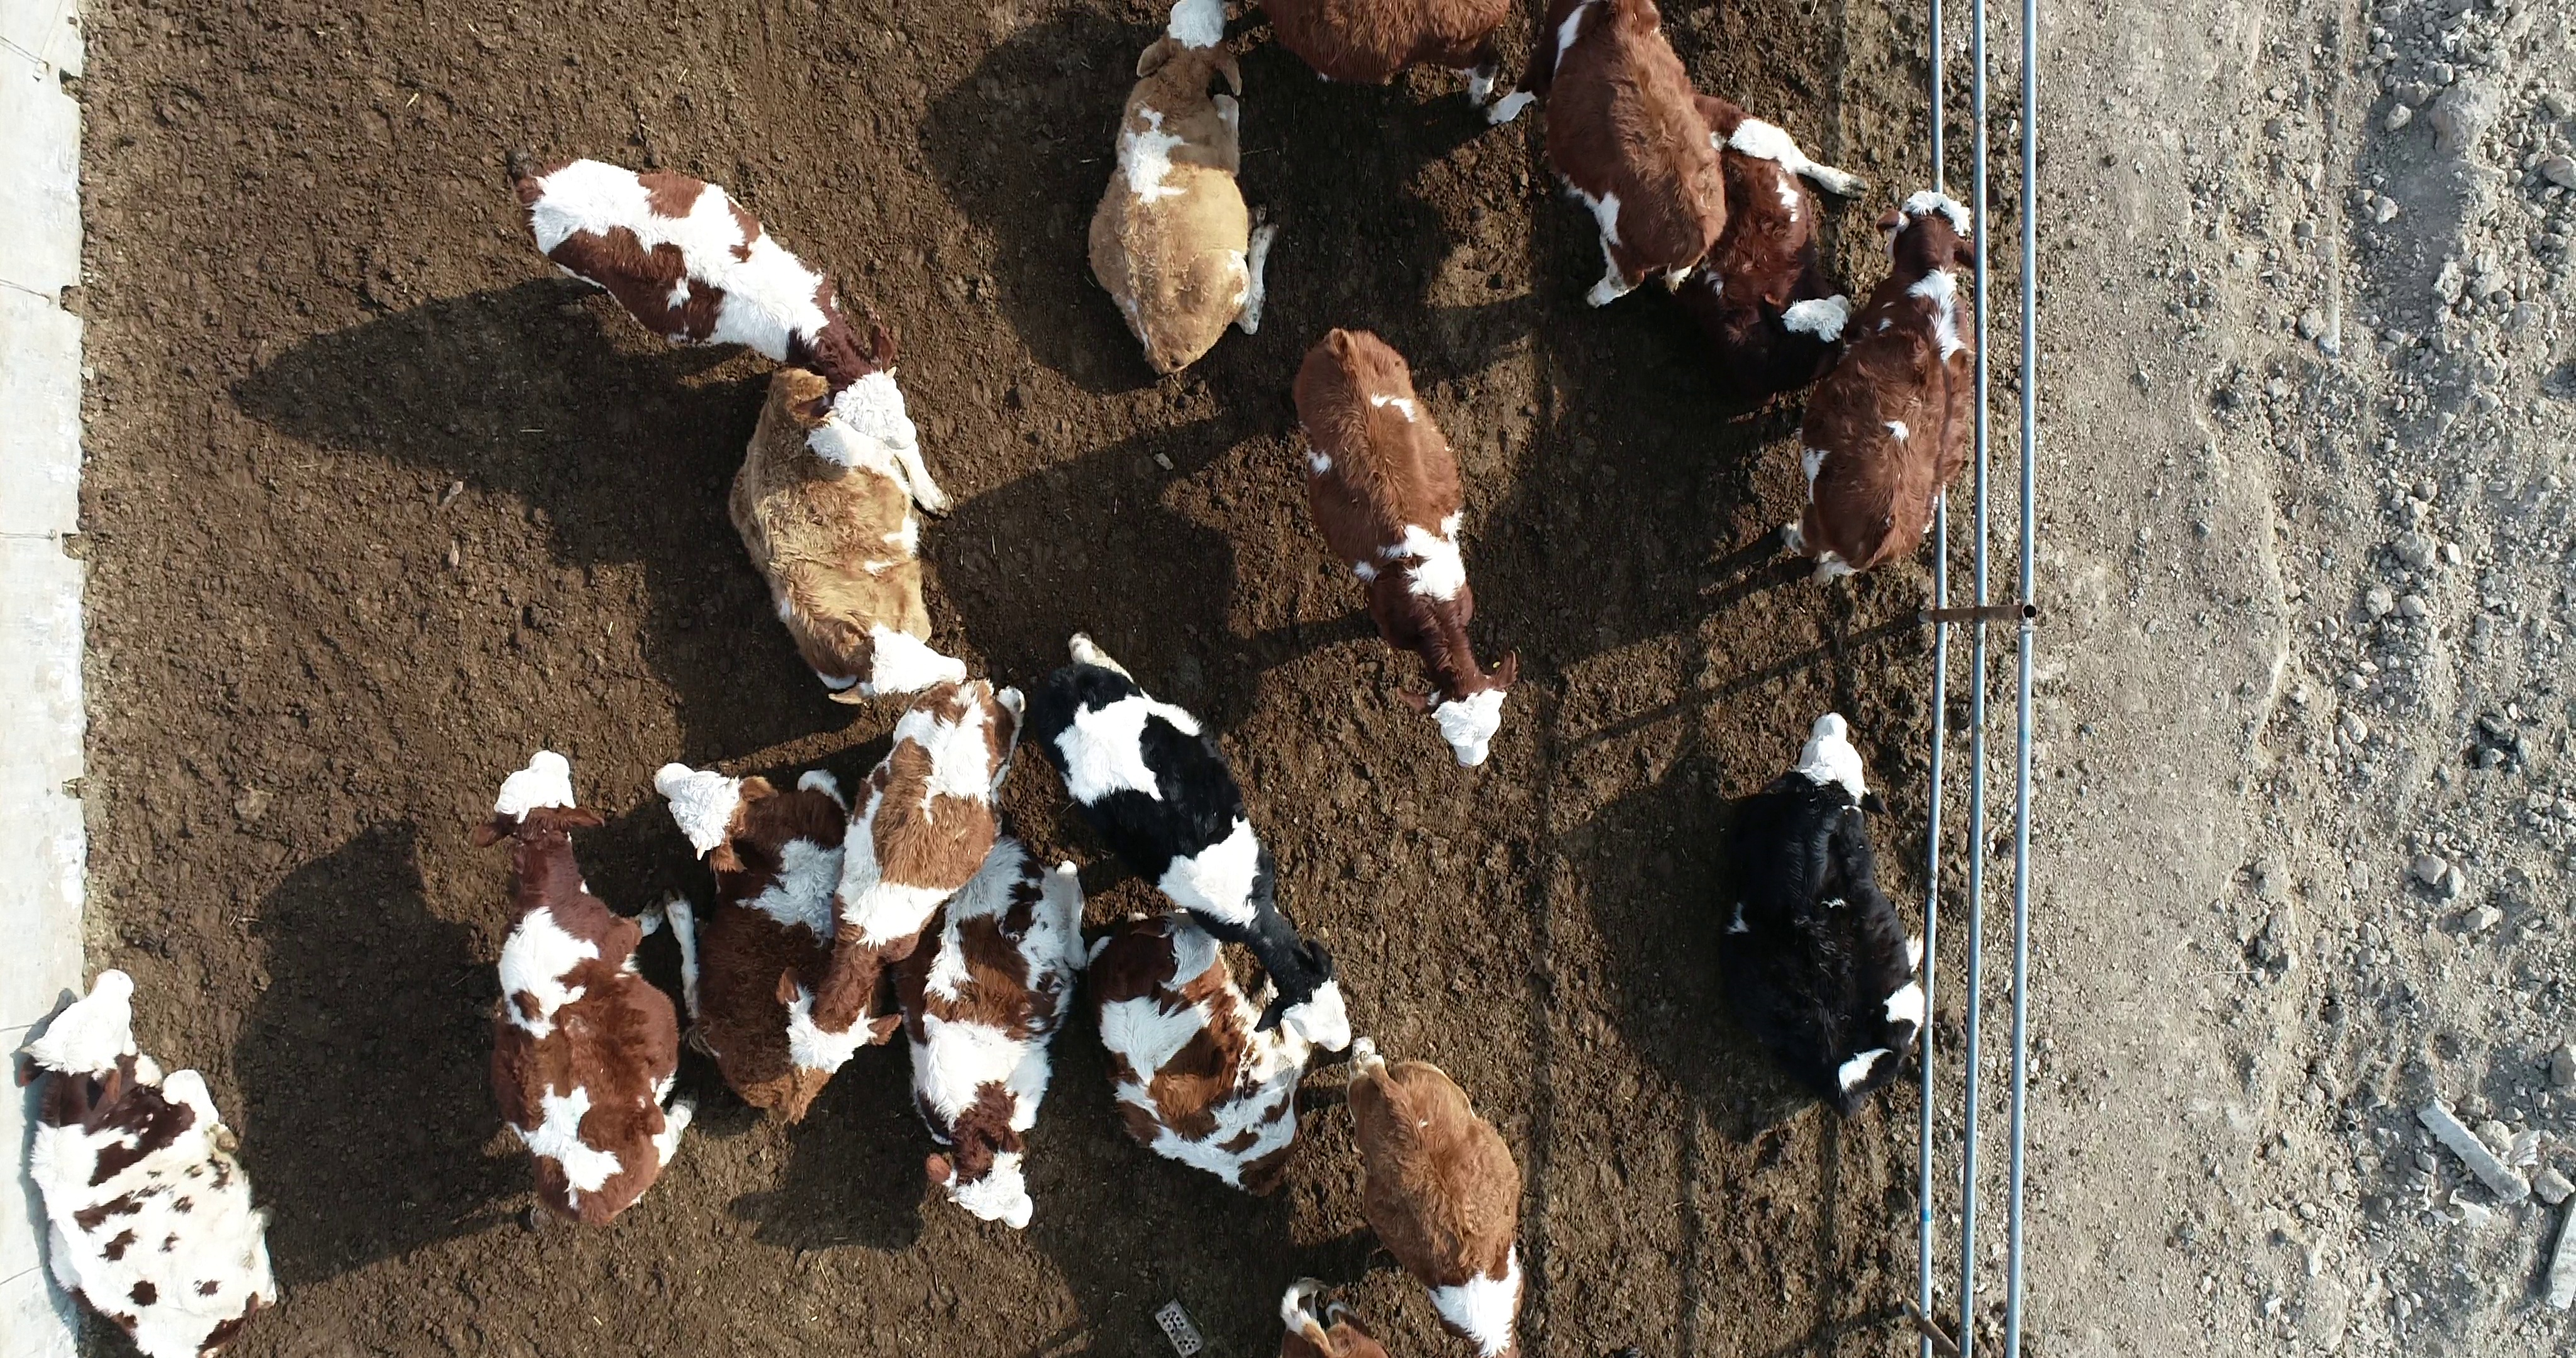cattle: (1027, 625, 1354, 1056), (508, 153, 922, 455), (463, 746, 704, 1235), (1288, 314, 1530, 772), (762, 671, 1026, 1079), (1777, 184, 1976, 595), (1080, 0, 1279, 382)
